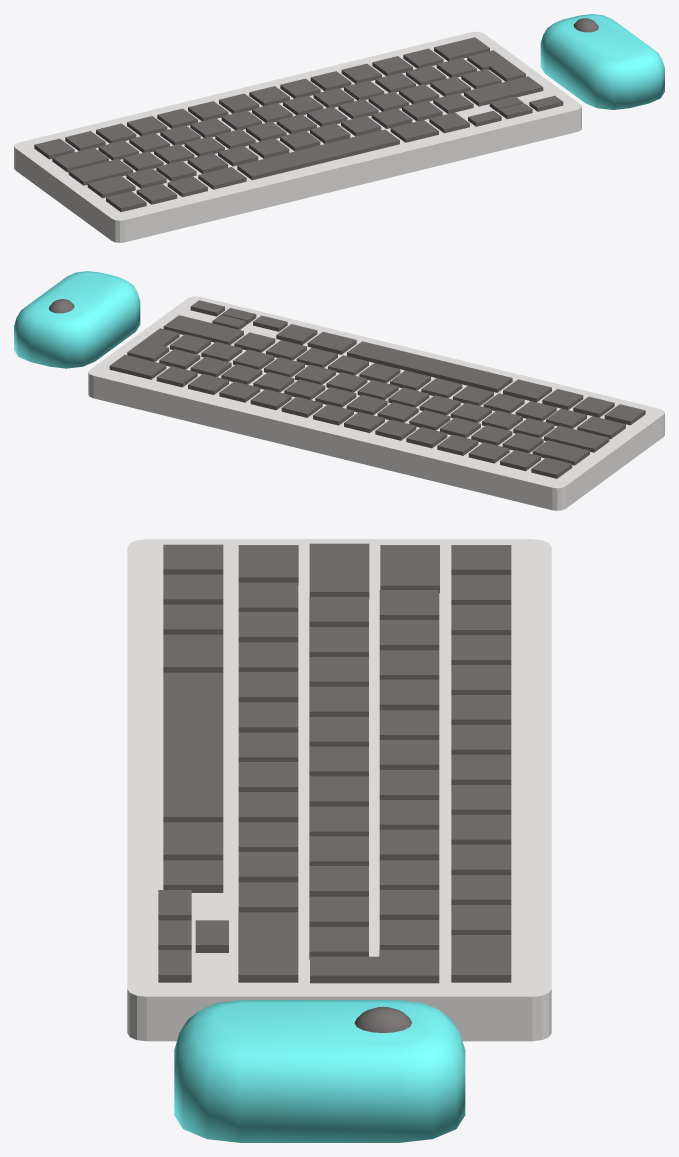
Rendered from Teclado.glb.
3 views of the same model, one above another, from view 1: azimuth 30°, elevation 25°; view 2: azimuth 150°, elevation 25°; view 3: azimuth 270°, elevation 25° (orthographic). The views are drawn at different scales.
Parts seen in each view (by area): view 1: Teclado; view 2: Teclado; view 3: Teclado.
Boxes of the visible parts, x1=… form: Teclado: x1=14, y1=14, x2=664, y2=242; Teclado: x1=14, y1=271, x2=664, y2=510; Teclado: x1=127, y1=539, x2=551, y2=1142.
Size of the model in its own units: 4.89 by 0.3924 by 1.57.
